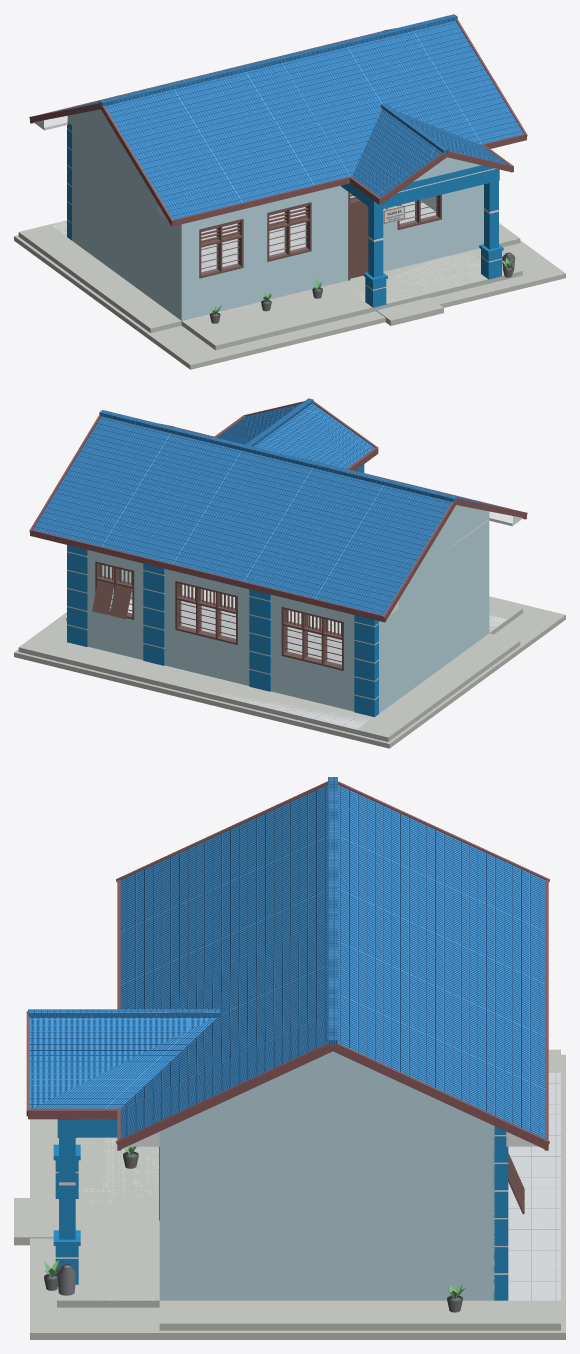
File: ruang_bk.glb
3 views of the same model, one above another, from view 1: azimuth 30°, elevation 25°; view 2: azimuth 150°, elevation 25°; view 3: azimuth 270°, elevation 25° (orthographic). The views are drawn at different scales.
Visible parts, largest first — view 1: Atap_Genteng_Metal_Biru, Dinding_Biru_Es_RuangBK, Lantai_Apron_Dan_Tangga_Beton, Pilaster_Dan_Tiang_Biru_Cerulean, Kusen_Pintu_Jendela_Coklat, Lisplang_Marun_Atap, Kaca_Jendela_Transparan, Lantai_1_Ruangan_BK_Kosong, Teras_Dan_Selasar_Putih; view 2: Atap_Genteng_Metal_Biru, Dinding_Biru_Es_RuangBK, Lantai_Apron_Dan_Tangga_Beton, Pilaster_Dan_Tiang_Biru_Cerulean, Kusen_Pintu_Jendela_Coklat, Lisplang_Marun_Atap, Lantai_1_Ruangan_BK_Kosong, Kaca_Jendela_Transparan, Teras_Dan_Selasar_Putih; view 3: Atap_Genteng_Metal_Biru, Dinding_Biru_Es_RuangBK, Lantai_Apron_Dan_Tangga_Beton, Teras_Dan_Selasar_Putih, Lisplang_Marun_Atap, Pilaster_Dan_Tiang_Biru_Cerulean.
Part boxes in pixels (bbox=[...]): Atap_Genteng_Metal_Biru: bbox=[57, 14, 523, 219]; Dinding_Biru_Es_RuangBK: bbox=[67, 109, 483, 320]; Lantai_Apron_Dan_Tangga_Beton: bbox=[14, 220, 565, 369]; Pilaster_Dan_Tiang_Biru_Cerulean: bbox=[67, 121, 503, 307]; Kusen_Pintu_Jendela_Coklat: bbox=[199, 192, 441, 280]; Lisplang_Marun_Atap: bbox=[29, 19, 527, 226]; Kaca_Jendela_Transparan: bbox=[201, 196, 436, 273]; Lantai_1_Ruangan_BK_Kosong: bbox=[201, 193, 435, 272]; Teras_Dan_Selasar_Putih: bbox=[50, 220, 502, 334]; Atap_Genteng_Metal_Biru: bbox=[33, 398, 499, 615]; Dinding_Biru_Es_RuangBK: bbox=[87, 505, 489, 713]; Lantai_Apron_Dan_Tangga_Beton: bbox=[14, 596, 565, 748]; Pilaster_Dan_Tiang_Biru_Cerulean: bbox=[67, 464, 378, 717]; Kusen_Pintu_Jendela_Coklat: bbox=[92, 561, 343, 670]; Lisplang_Marun_Atap: bbox=[29, 401, 527, 622]; Lantai_1_Ruangan_BK_Kosong: bbox=[128, 584, 341, 664]; Kaca_Jendela_Transparan: bbox=[180, 601, 341, 666]; Teras_Dan_Selasar_Putih: bbox=[50, 615, 508, 730]; Atap_Genteng_Metal_Biru: bbox=[28, 777, 545, 1138]; Dinding_Biru_Es_RuangBK: bbox=[159, 1051, 494, 1300]; Lantai_Apron_Dan_Tangga_Beton: bbox=[14, 1049, 565, 1339]; Teras_Dan_Selasar_Putih: bbox=[57, 1072, 560, 1301]; Lisplang_Marun_Atap: bbox=[26, 781, 549, 1150]; Pilaster_Dan_Tiang_Biru_Cerulean: bbox=[53, 1119, 508, 1300].
Size of the model in its own units: 10.26 by 5.02 by 8.6.
Materials: 16 (6 with a texture image).
